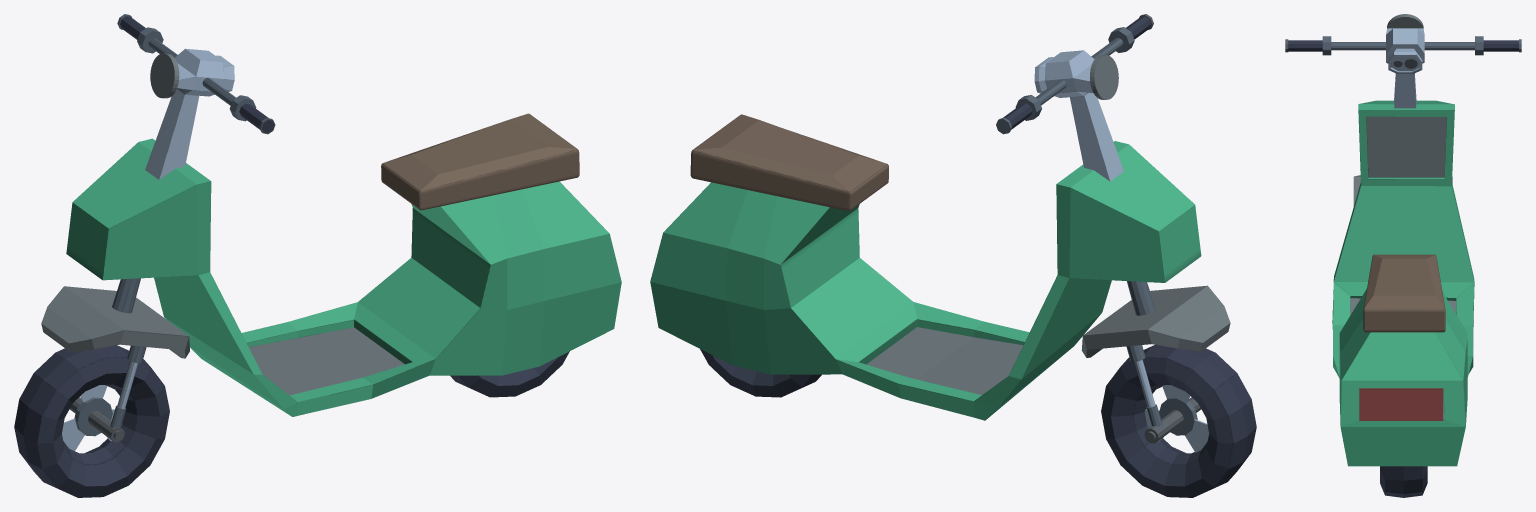
Rendered from bike.gltf.
3 views of the same model, side by side, from view 1: azimuth 30°, elevation 25°; view 2: azimuth 150°, elevation 25°; view 3: azimuth 270°, elevation 25° (orthographic). The views are drawn at different scales.
Parts seen in each view (by area): view 1: CUPIC_SCOOTER; view 2: CUPIC_SCOOTER; view 3: CUPIC_SCOOTER.
Boxes of the visible parts, box(x1,y1,x2,y2) form: CUPIC_SCOOTER: box(14, 14, 621, 497); CUPIC_SCOOTER: box(650, 14, 1256, 497); CUPIC_SCOOTER: box(1285, 14, 1521, 497).
Bounding box in the file's own units: 19.09 × 13.48 × 8.41.
1 material, 1 textured.
